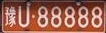U: (18, 6, 30, 27)
